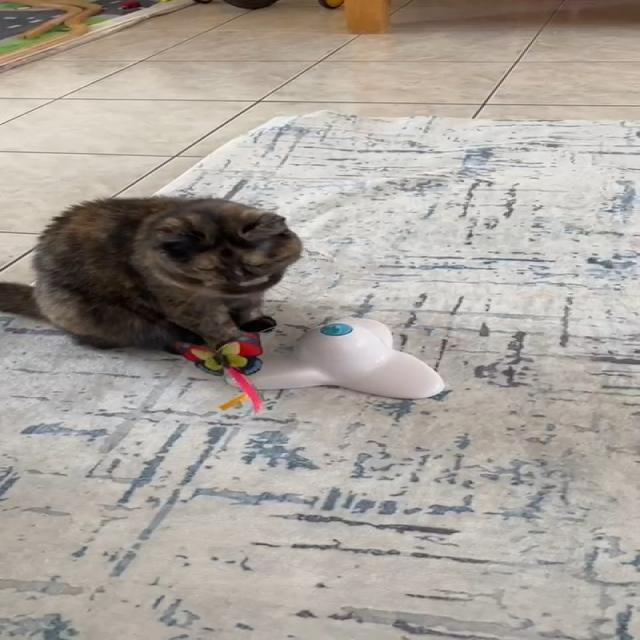authorized: (0, 195, 303, 353)
